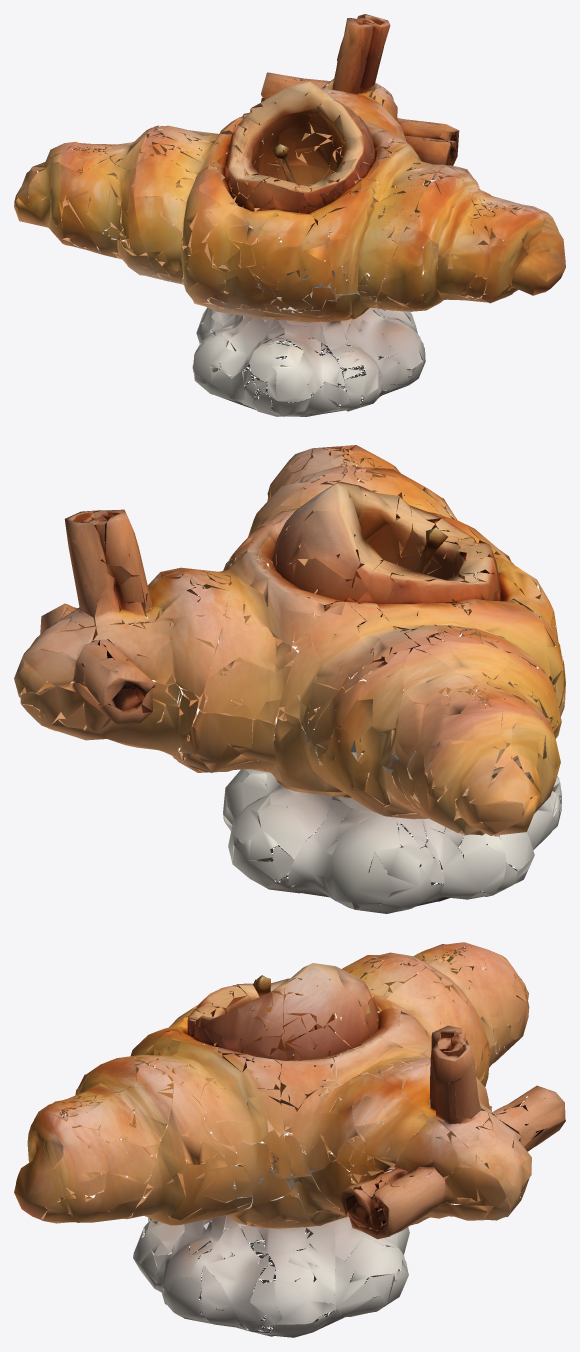
The model's file is prop-golden-croissant.glb.
3 renders of one model, top to bottom at view 1: azimuth 30°, elevation 25°; view 2: azimuth 150°, elevation 25°; view 3: azimuth 270°, elevation 25°, orthographic. The views are drawn at different scales.
Parts seen in each view (by area): view 1: tripo_node_53acf263-0c6a-48c9-bb55-8e7f87d29a7d; view 2: tripo_node_53acf263-0c6a-48c9-bb55-8e7f87d29a7d; view 3: tripo_node_53acf263-0c6a-48c9-bb55-8e7f87d29a7d.
Part boxes in pixels (bbox=[...]): tripo_node_53acf263-0c6a-48c9-bb55-8e7f87d29a7d: bbox=[14, 14, 565, 416]; tripo_node_53acf263-0c6a-48c9-bb55-8e7f87d29a7d: bbox=[14, 445, 565, 913]; tripo_node_53acf263-0c6a-48c9-bb55-8e7f87d29a7d: bbox=[14, 942, 565, 1337].
Bounding box in the file's own units: 0.999 × 0.662 × 0.9972.
1 material, 1 textured.
